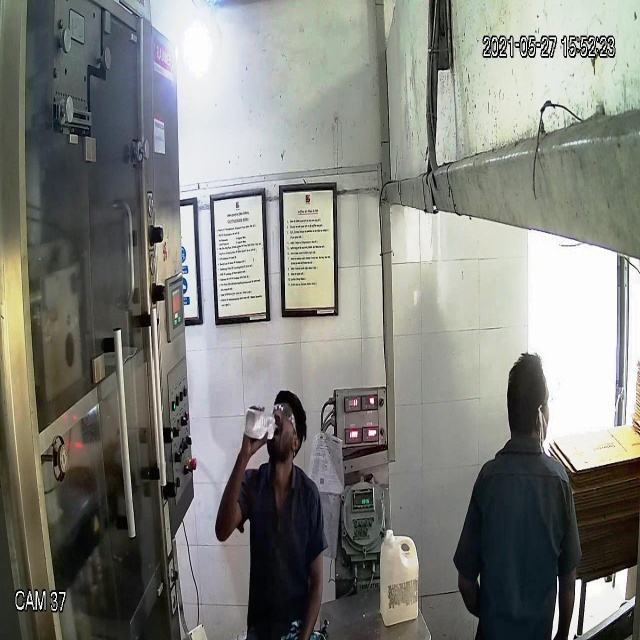Gafas: (268, 401, 301, 443)
